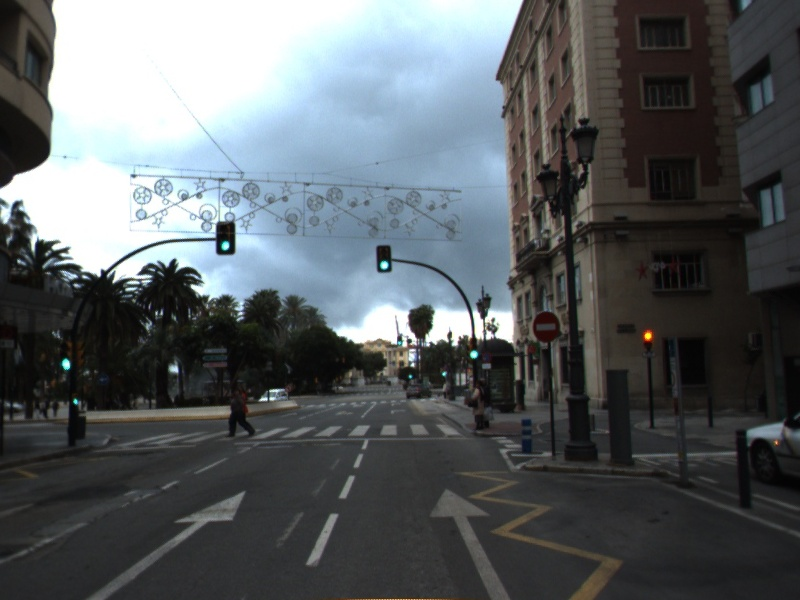STRAIGHT: (80, 487, 249, 600), (425, 484, 512, 600)
